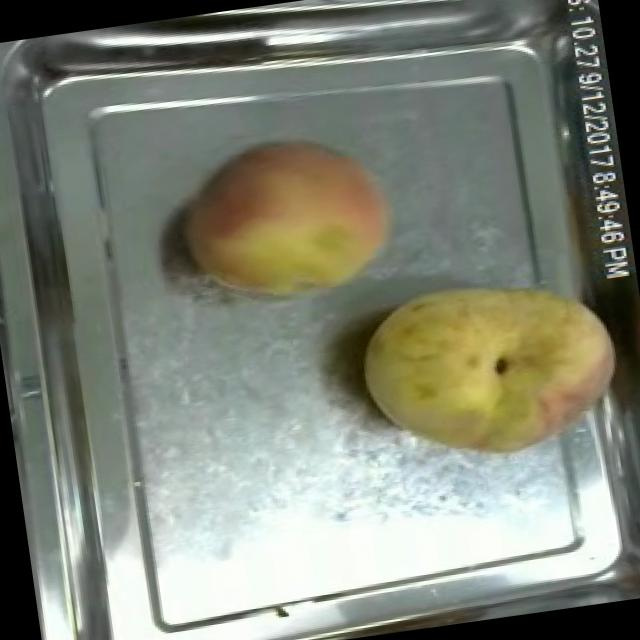Fruit: (346, 250, 640, 484), (166, 120, 414, 320)
